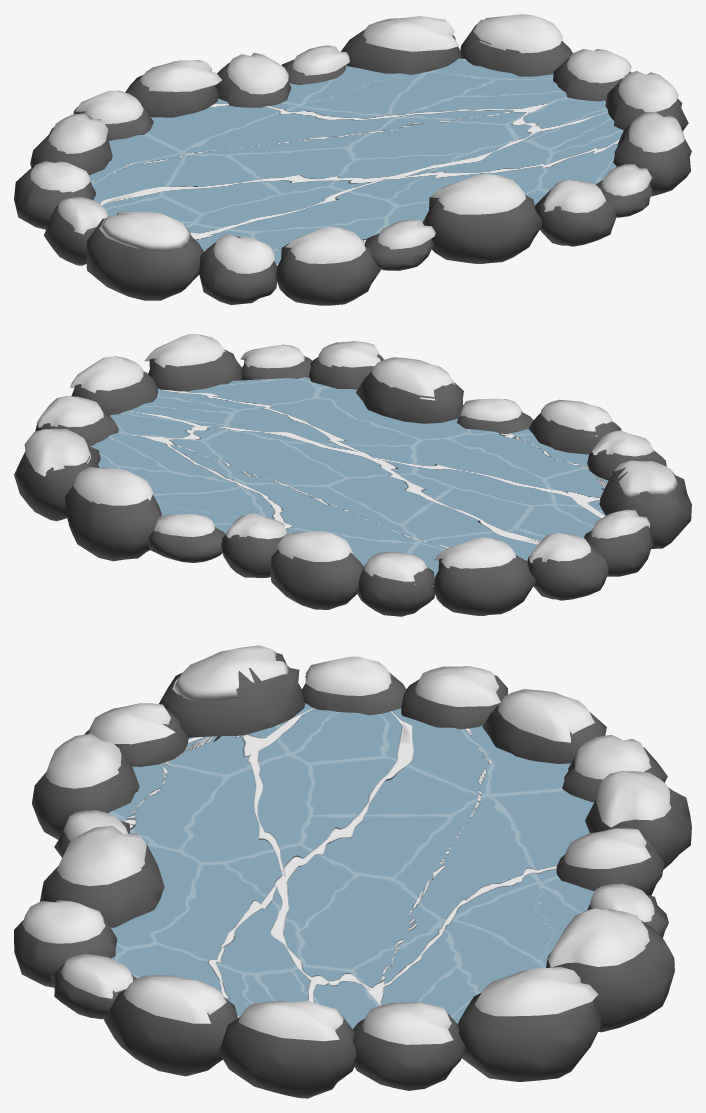
File: pond.glb
3 views of the same model, one above another, from view 1: azimuth 30°, elevation 25°; view 2: azimuth 150°, elevation 25°; view 3: azimuth 270°, elevation 25° (orthographic). The views are drawn at different scales.
Visible parts, largest first — view 1: rocks, pond; view 2: rocks, pond; view 3: rocks, pond.
Part boxes in pixels (bbox=[...]): rocks: bbox=[14, 14, 691, 305]; pond: bbox=[89, 58, 623, 265]; rocks: bbox=[14, 334, 691, 616]; pond: bbox=[90, 377, 608, 586]; rocks: bbox=[14, 645, 691, 1098]; pond: bbox=[108, 703, 594, 1028].
Size of the model in its own units: 1041 by 139 by 767.
3 materials, 1 textured.
